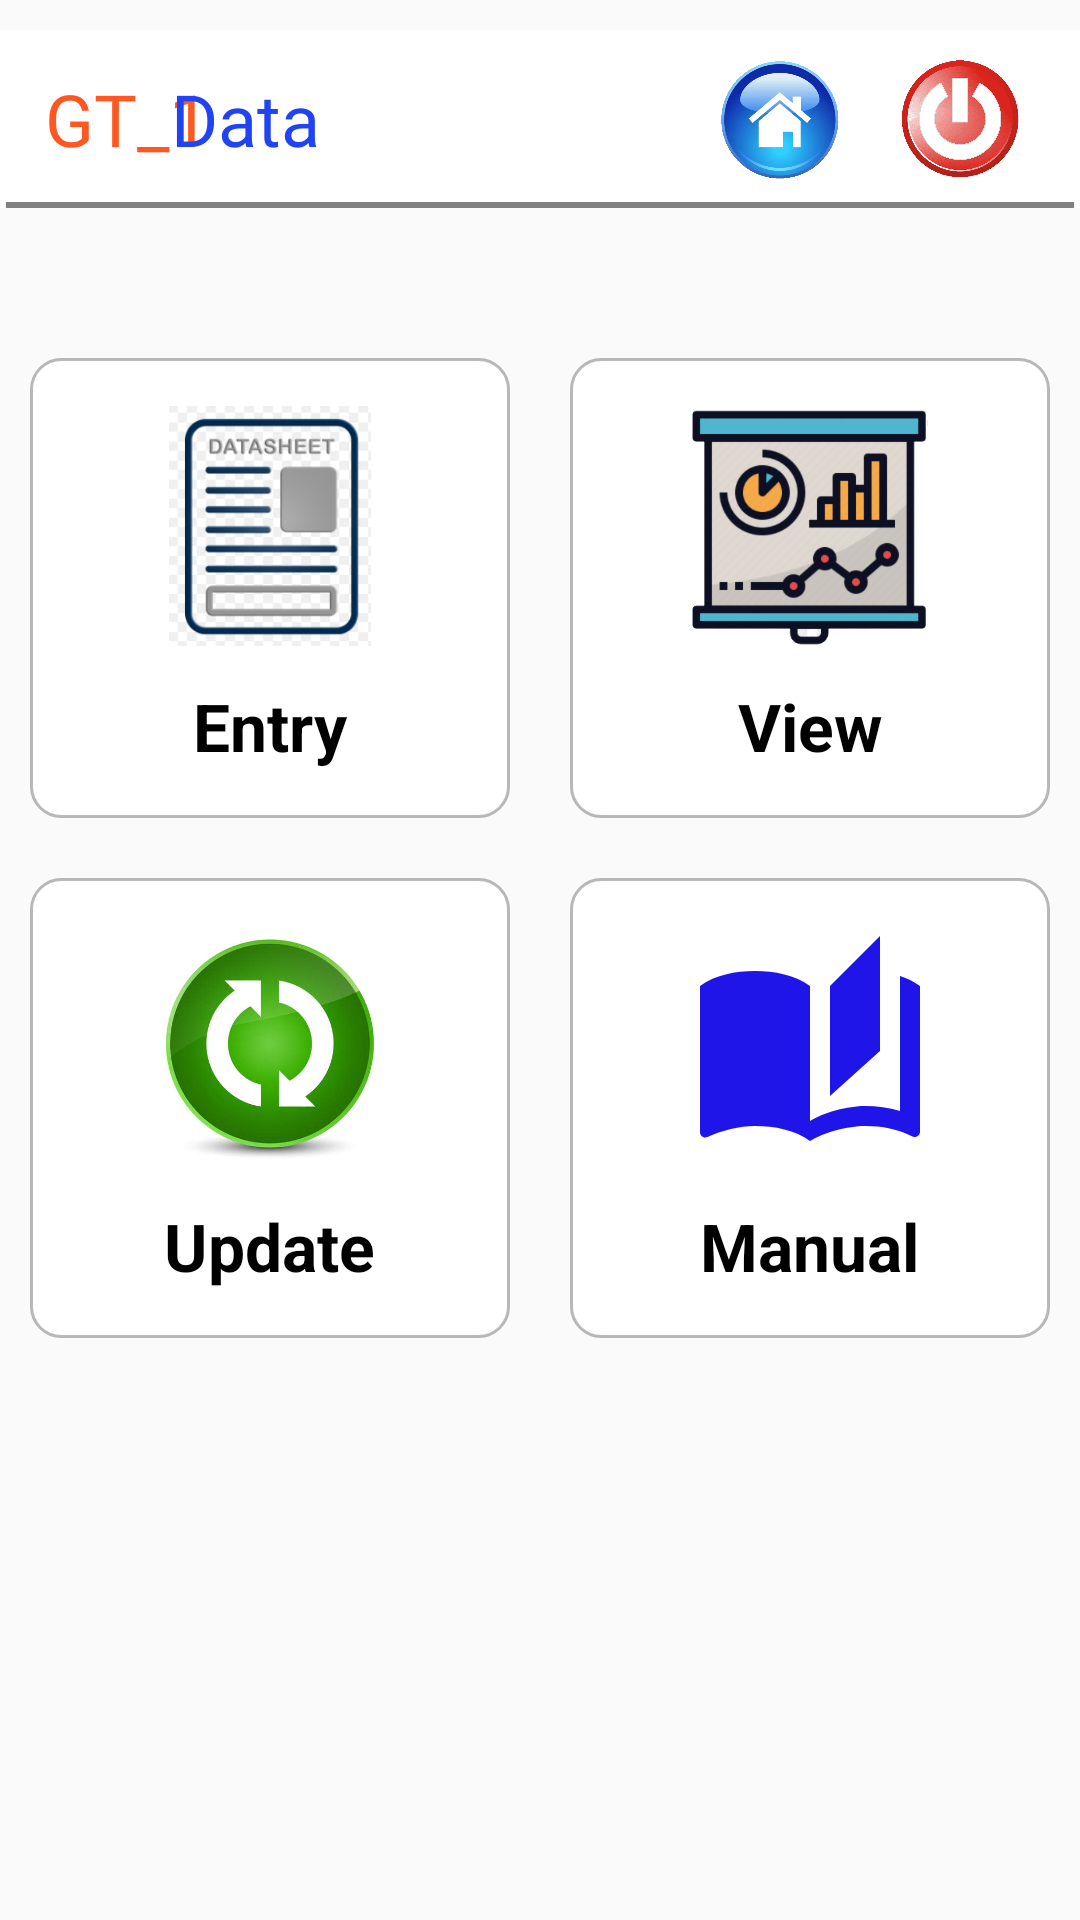

Icons on this 1080 × 1920 Android screen, each with the point to tap as point (x, y):
auto stories: point (810, 1038)
home: point (780, 120)
sign out: point (960, 118)
visualization: point (810, 527)
